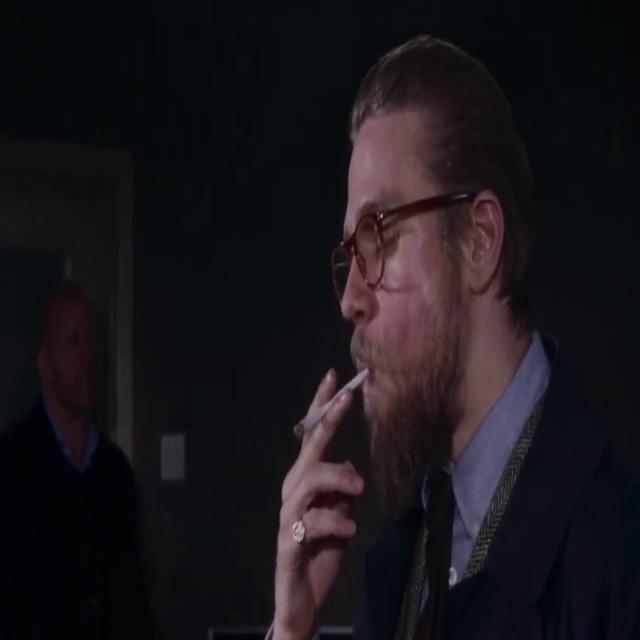Smooking: (279, 354, 371, 443)
